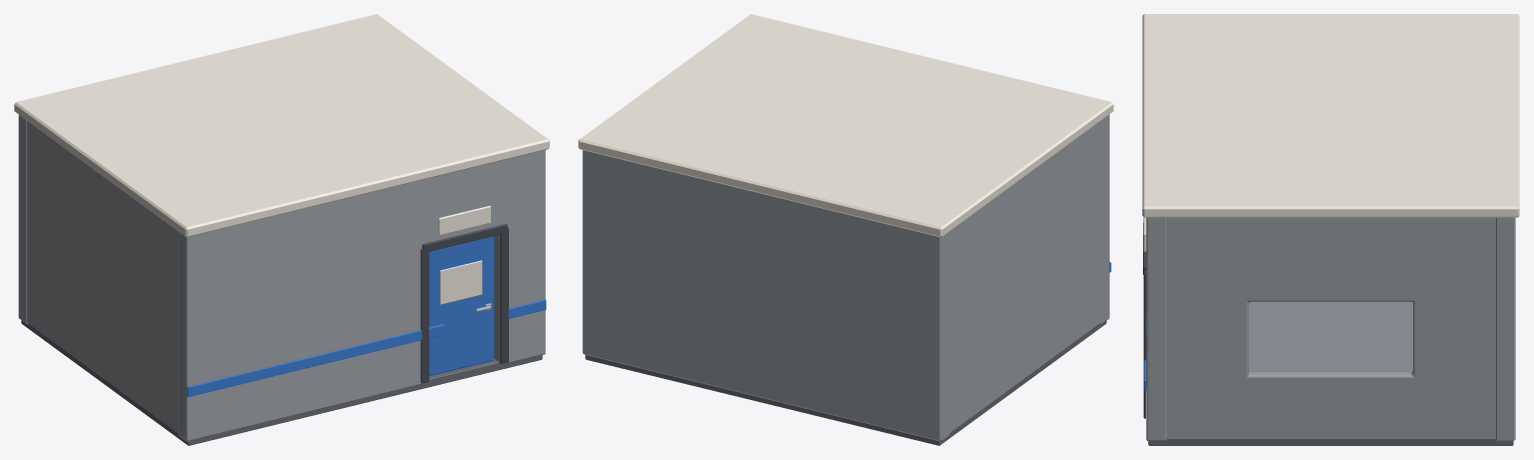
File: interrogation-room.glb
The picture shows the model from 3 angles, left to right: view 1: azimuth 30°, elevation 25°; view 2: azimuth 150°, elevation 25°; view 3: azimuth 270°, elevation 25°; orthographic projection. The views are drawn at different scales.
Visible parts, largest first — view 1: Ceiling, Wall_Front, Wall_Left, Door, Floor, StripeOut_FrontL, Wall_Back, DoorPanel_Out, DoorFrame_L, DoorFrame_R, Sign_Blank, DoorFrame_Top; view 2: Wall_Back, Ceiling, Wall_Left, Floor, Wall_Front; view 3: Ceiling, Wall_Right, Mirror_Glass, Wall_Front, Wall_Back, Floor, DoorFrame_R.
Part boxes in pixels (left/top/right/bottom): Ceiling: left=14, top=14, right=549, bottom=237; Wall_Front: left=178, top=150, right=545, bottom=441; Wall_Left: left=27, top=121, right=177, bottom=432; Door: left=429, top=236, right=494, bottom=375; Floor: left=21, top=320, right=542, bottom=445; StripeOut_FrontL: left=187, top=324, right=444, bottom=396; Wall_Back: left=18, top=115, right=28, bottom=324; DoorPanel_Out: left=440, top=260, right=482, bottom=304; DoorFrame_L: left=420, top=248, right=429, bottom=383; DoorFrame_R: left=500, top=228, right=508, bottom=363; Sign_Blank: left=438, top=205, right=490, bottom=235; DoorFrame_Top: left=422, top=224, right=507, bottom=252; Wall_Back: left=582, top=150, right=949, bottom=441; Ceiling: left=578, top=14, right=1113, bottom=237; Wall_Left: left=949, top=121, right=1100, bottom=432; Floor: left=585, top=321, right=1106, bottom=445; Wall_Front: left=1098, top=114, right=1109, bottom=324; Ceiling: left=1142, top=14, right=1519, bottom=217; Wall_Right: left=1166, top=217, right=1495, bottom=439; Mirror_Glass: left=1249, top=301, right=1412, bottom=372; Wall_Front: left=1146, top=217, right=1166, bottom=441; Wall_Back: left=1496, top=217, right=1515, bottom=441; Floor: left=1148, top=440, right=1513, bottom=445; DoorFrame_R: left=1143, top=271, right=1145, bottom=418.
Size of the model in its own units: 22.4 by 13 by 18.4.
